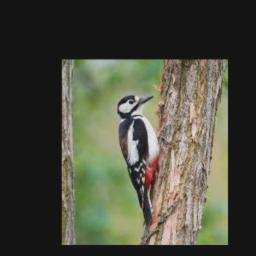Woodpecker: (117, 96, 160, 228)
